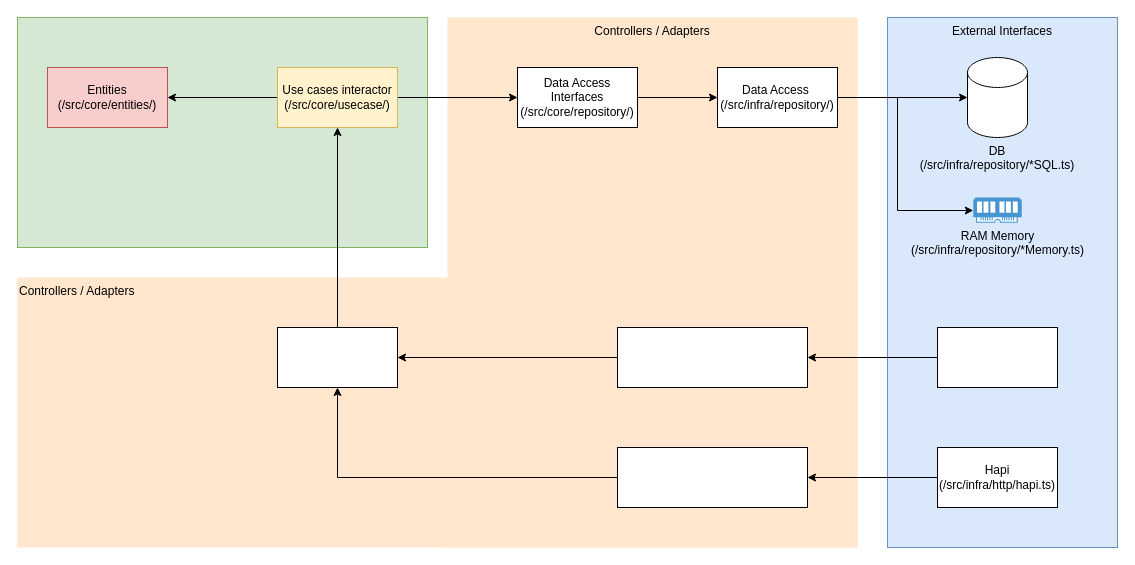
Image size: 1135x565. Some labels were removed from this diagram. Each missing label, with the box of its shape:
Controller: (276, 326, 398, 388)
Domain Layer - Core: (16, 16, 428, 248)
Express (/src/infra/http/express.ts): (936, 326, 1058, 388)
ExṕressAdapter (/src/adapter/ExpressAdapter.ts): (616, 326, 808, 388)
HapiAdapter (/src/adapter/ExpressAdapter.ts): (616, 446, 808, 508)
